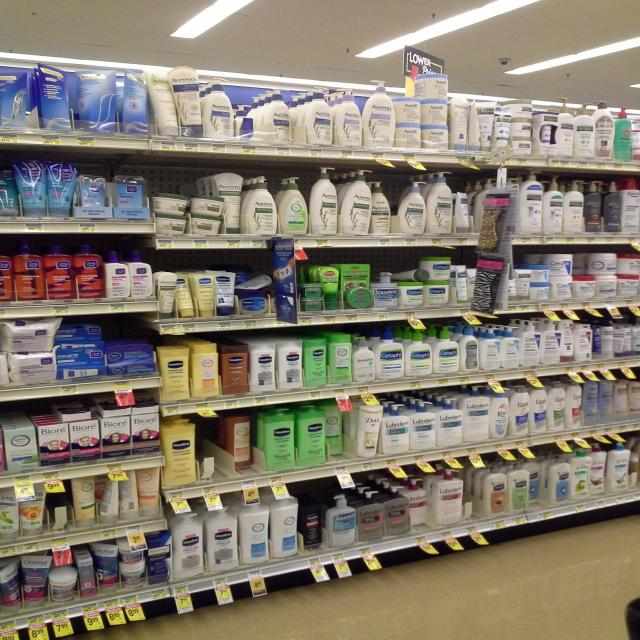void: (210, 430, 234, 477)
